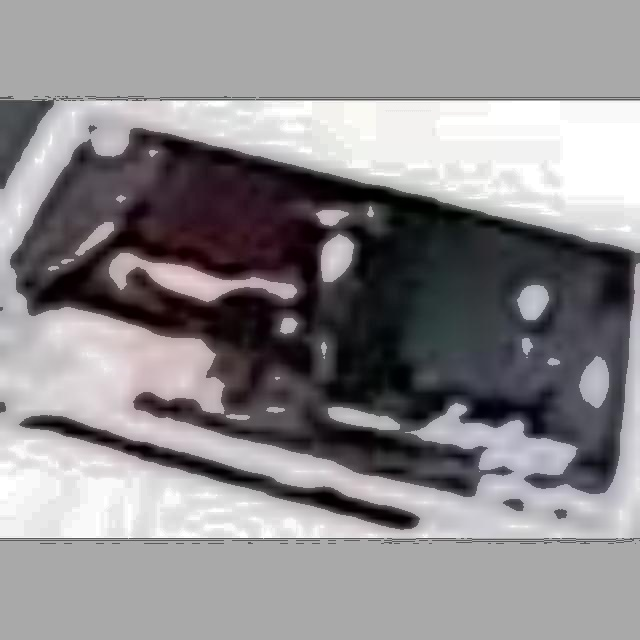tidak-pakai: (117, 156, 343, 374)
